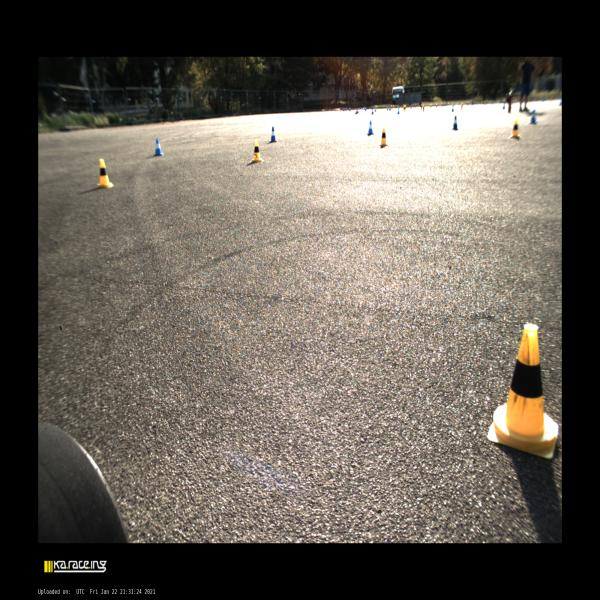blue_cone: (154, 138, 163, 155), (270, 126, 277, 142), (529, 110, 537, 124), (367, 120, 374, 135), (452, 116, 458, 130), (397, 107, 400, 114), (451, 105, 454, 112), (355, 108, 358, 114), (371, 108, 374, 114), (386, 106, 389, 110), (389, 105, 391, 111), (345, 106, 347, 111), (357, 108, 359, 113), (365, 106, 367, 111), (343, 107, 345, 111), (349, 107, 351, 111), (375, 107, 376, 112)
yellow_cone: (487, 323, 559, 458), (98, 159, 114, 188), (252, 139, 262, 161), (510, 120, 520, 138), (379, 128, 388, 146), (403, 105, 406, 112), (420, 104, 423, 110), (422, 104, 424, 112), (460, 103, 462, 110), (415, 103, 417, 108), (391, 104, 392, 110), (393, 104, 394, 109)
